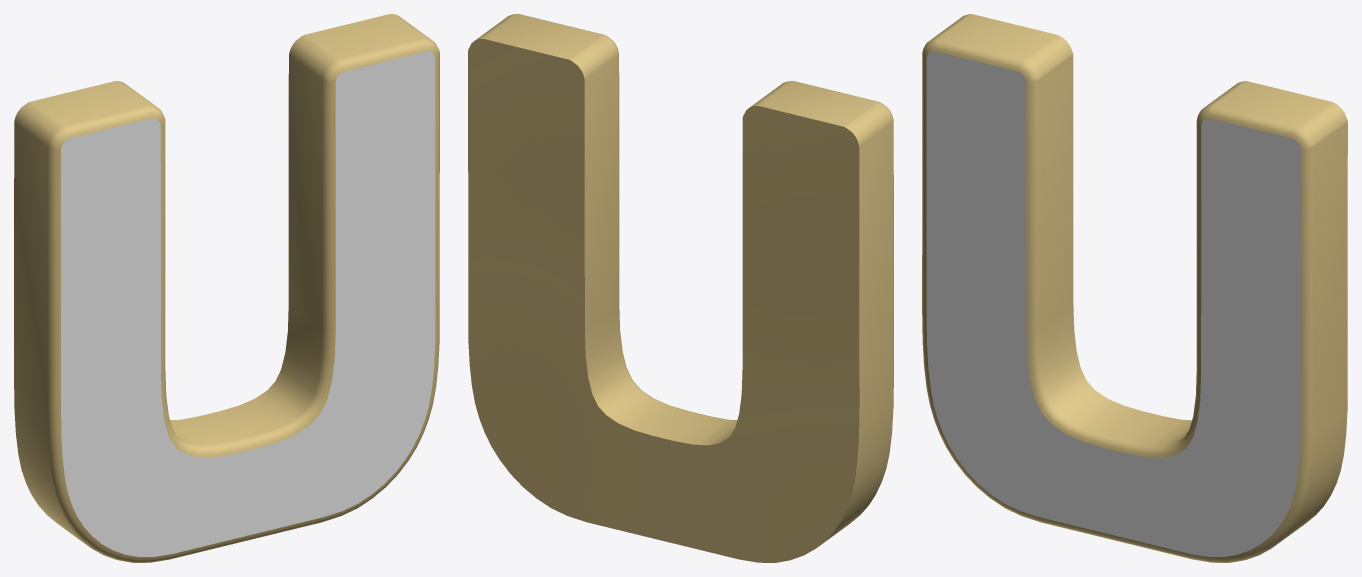
The model's file is LettersLightUp02_U.FBX.
3 views of the same model, side by side, from view 1: azimuth 30°, elevation 25°; view 2: azimuth 150°, elevation 25°; view 3: azimuth 330°, elevation 25° (orthographic).
Visible parts, largest first — view 1: LettersLightUp02_U; view 2: LettersLightUp02_U; view 3: LettersLightUp02_U.
Boxes of the visible parts, bbox=[...] form: LettersLightUp02_U: bbox=[14, 14, 439, 562]; LettersLightUp02_U: bbox=[468, 14, 893, 562]; LettersLightUp02_U: bbox=[922, 14, 1347, 562].
Size of what is drawn, in the model's own units: 0.5361 by 0.5998 by 0.0912.
